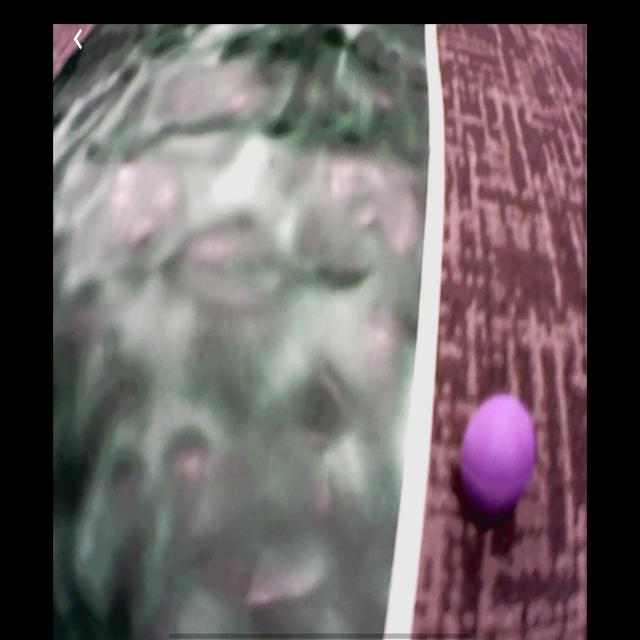ball: (463, 397, 536, 505)
